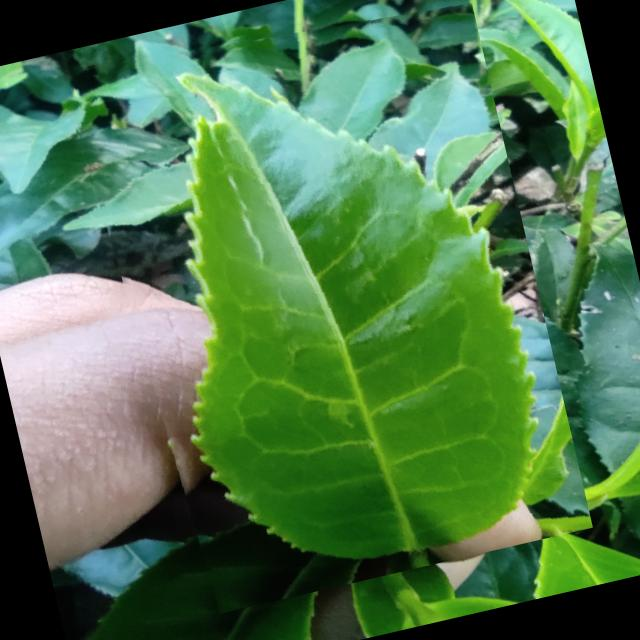Category C(4-7 days): (60, 0, 592, 620)
